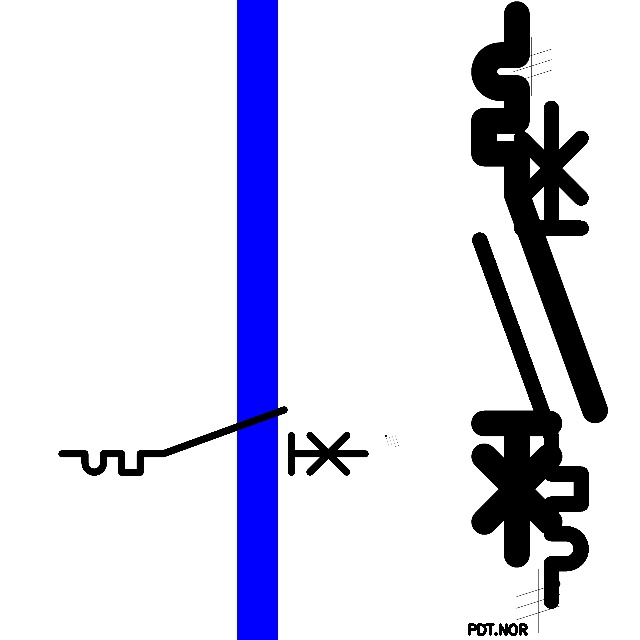interruptor_termomagnetico: (470, 0, 609, 568), (467, 95, 594, 613), (54, 402, 373, 480)
